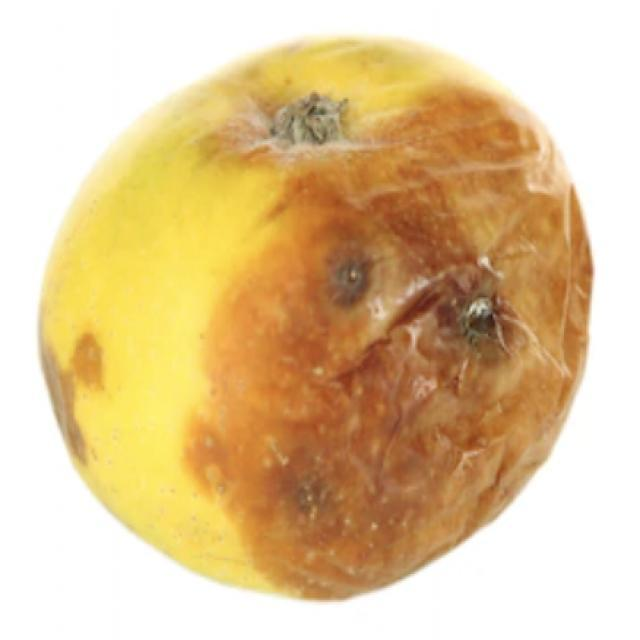Rotten: (55, 48, 567, 577)
